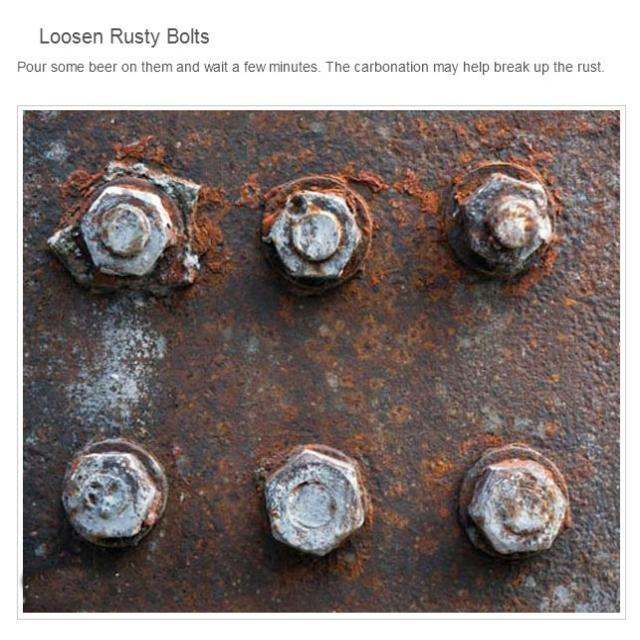bolt nut: (259, 447, 367, 560), (456, 168, 553, 278), (464, 456, 569, 556), (79, 183, 179, 284), (57, 448, 162, 544), (262, 186, 363, 282)
